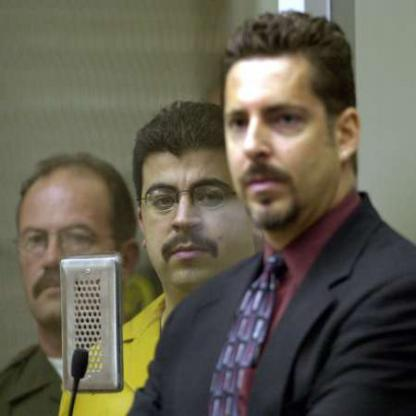face: (211, 23, 343, 232), (135, 111, 254, 291), (10, 163, 128, 329)
